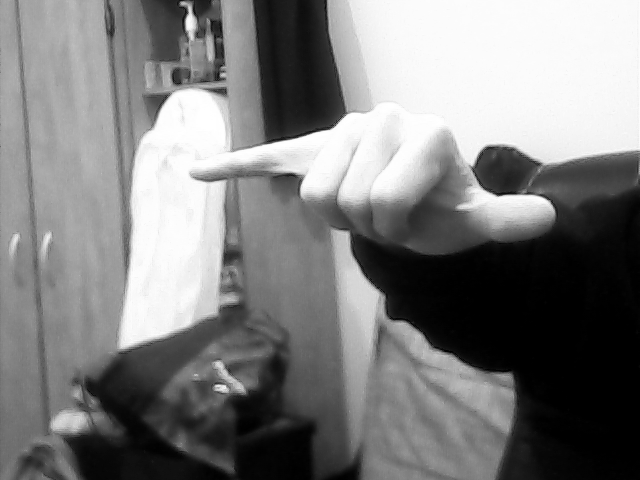aloha: (173, 101, 561, 259)
